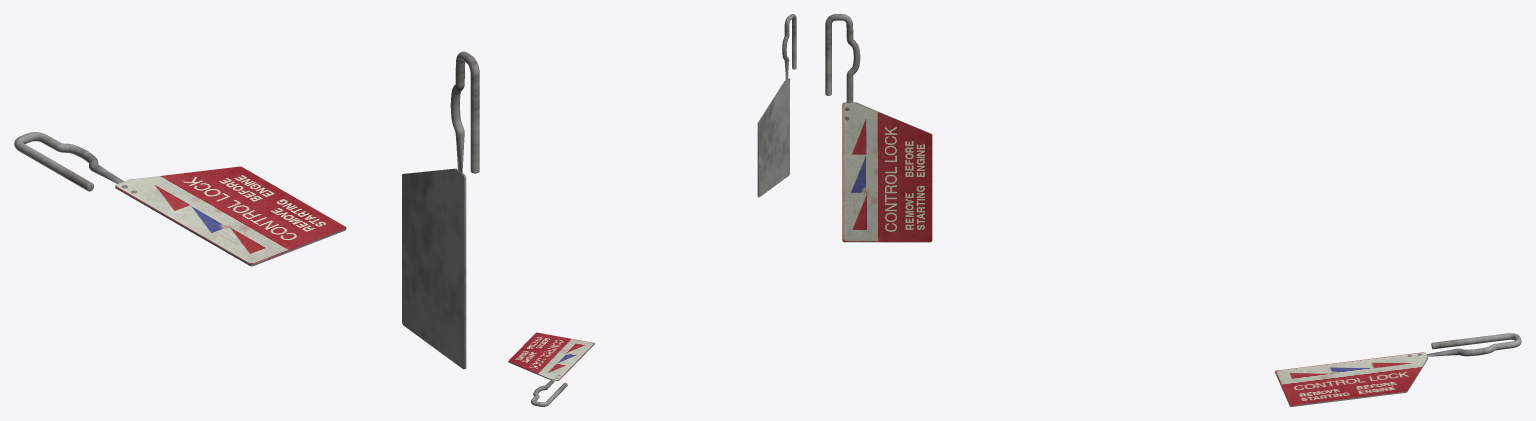
Rendered from controllock.gltf.
3 views of the same model, side by side, from view 1: azimuth 30°, elevation 25°; view 2: azimuth 150°, elevation 25°; view 3: azimuth 270°, elevation 25° (orthographic). The views are drawn at different scales.
Visible parts, largest first — view 1: ControlLock-pocket, ControlLock-yoke; view 2: ControlLock-yoke, ControlLock-pocket; view 3: ControlLock-yoke, ControlLock-pocket.
Part boxes in pixels (x1,y1,x2,y2): ControlLock-pocket: (14, 132, 346, 266); ControlLock-yoke: (402, 51, 479, 369); ControlLock-yoke: (757, 14, 796, 197); ControlLock-pocket: (508, 332, 594, 406); ControlLock-yoke: (825, 14, 932, 242); ControlLock-pocket: (1275, 333, 1521, 406).
Bounding box in the file's own units: 0.1238 × 0.2727 × 0.5262.
Materials: 1 (1 with a texture image).
